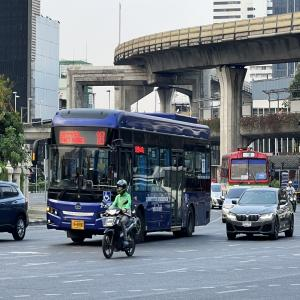BMTA-bus: (220, 148, 270, 203)
Bus Line Number: (94, 126, 109, 148), (246, 152, 253, 159)
Bus Side Number: (100, 202, 112, 209)
Destination Sign: (57, 128, 89, 146), (256, 172, 267, 179)
TSB-Bus: (46, 108, 212, 244)
